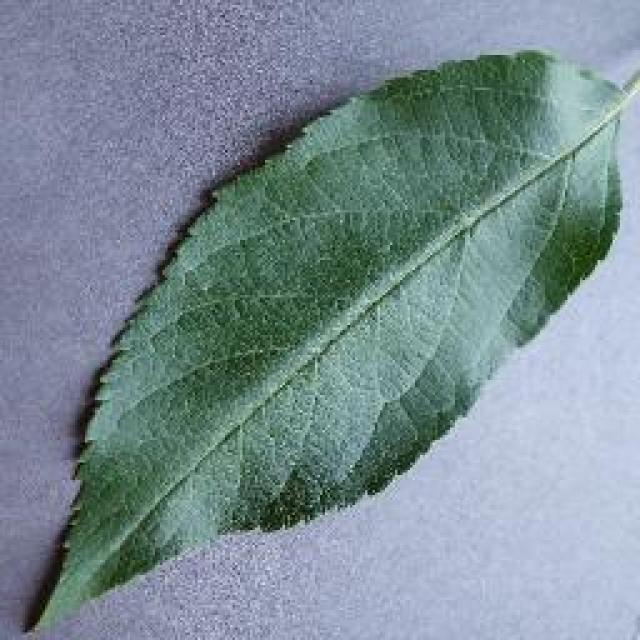apple healthy: (20, 40, 638, 632)
